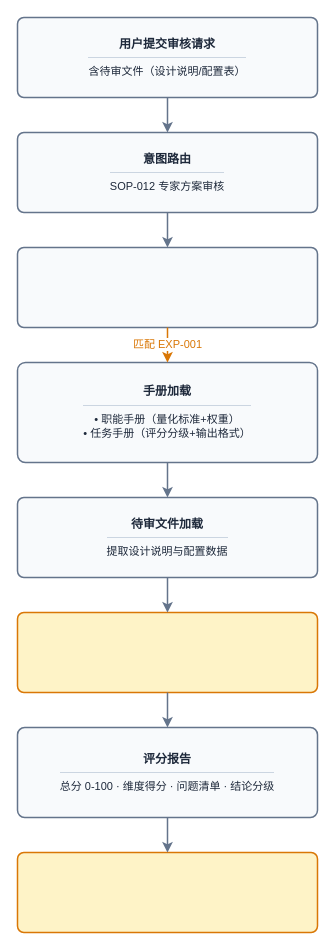
This 336x951 diagram has some shape labels left out. Here are the shapes that lost their labels. From the top down, the centre of each, then its label:
At pixel 167 287: "专家匹配 ACTIVE 状态专家库算法筛选".
At pixel 167 652: "专家 LLM 结构化输出 调用模型直调并返回 chat_json".
At pixel 167 892: "会话智能体合成回复 最终成果合成 · 决策权归人".
